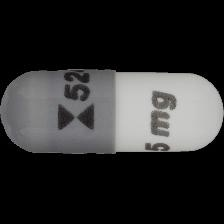69189-5241: (0, 0, 224, 224)
